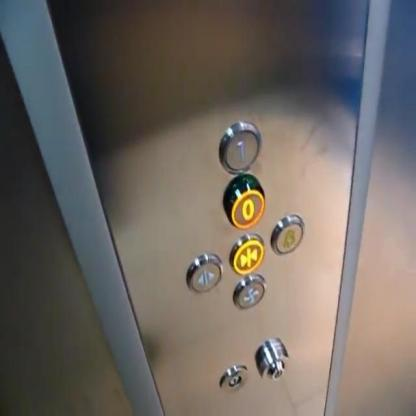0: (223, 172, 266, 229)
1: (218, 120, 260, 174)
alarm: (270, 213, 304, 258)
close: (228, 231, 265, 275)
fan: (232, 273, 266, 311)
keyhole: (253, 336, 290, 382), (218, 362, 248, 394)
open: (185, 252, 223, 295)
